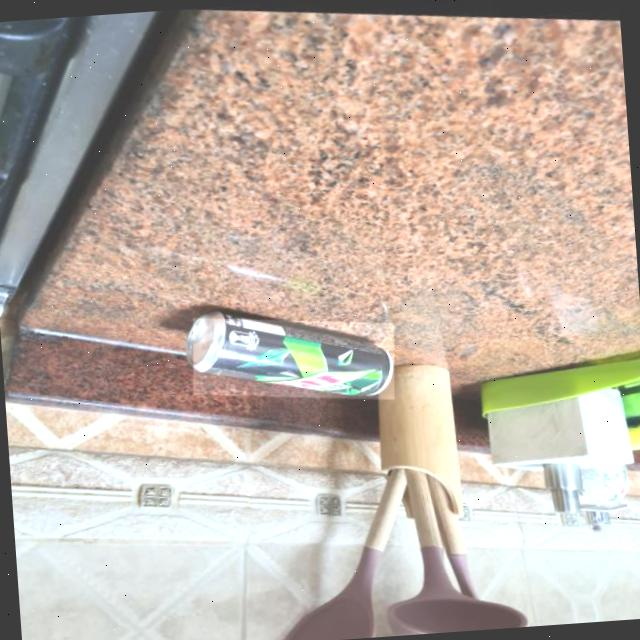trash: (175, 286, 394, 427)
